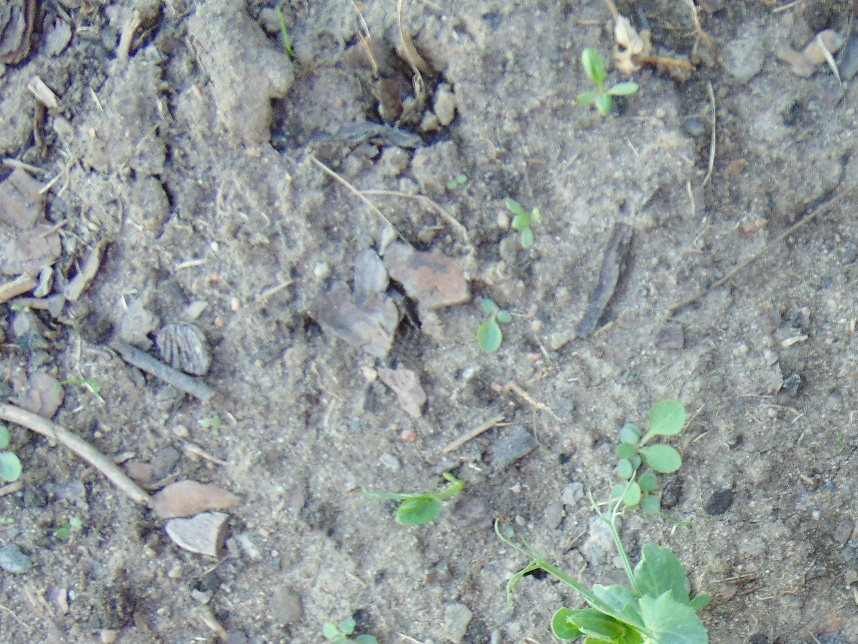crop: (506, 501, 712, 644), (366, 478, 465, 527)
weed: (612, 394, 686, 512), (575, 44, 639, 117), (503, 192, 542, 249), (475, 298, 512, 356), (323, 617, 379, 644), (1, 425, 23, 482)
